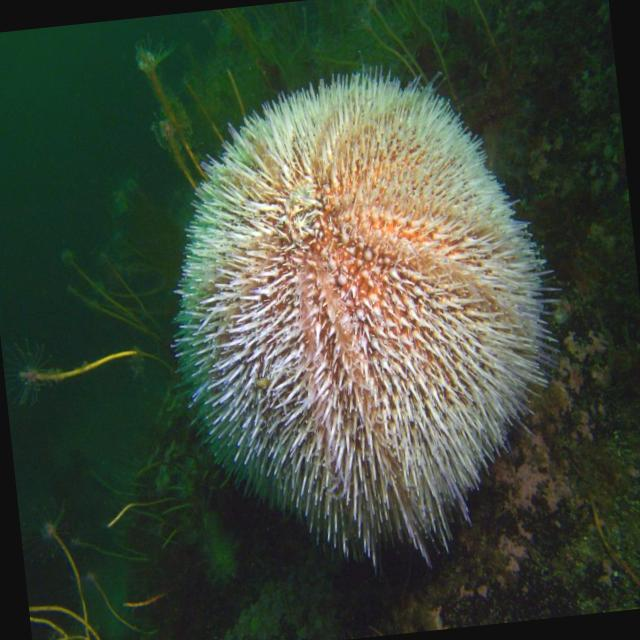Deniz Kestanesi: (140, 29, 588, 598)
